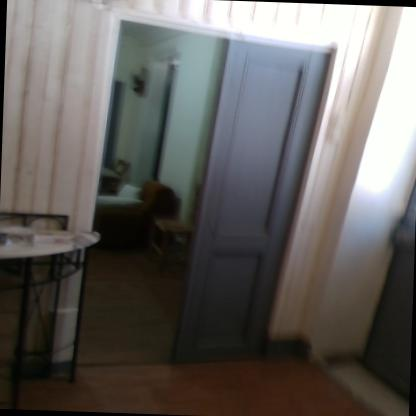open: (63, 0, 342, 385)
